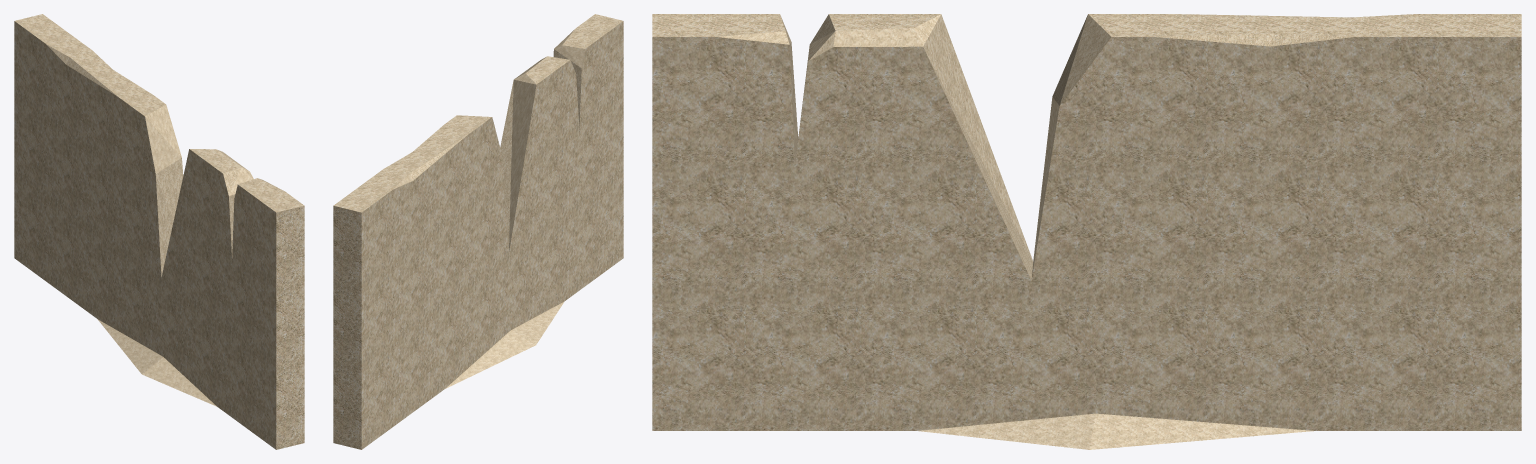
File: thm_tato_imprv_wall_cleft_s01_l2.fbx
The picture shows the model from 3 angles, left to right: view 1: azimuth 30°, elevation 25°; view 2: azimuth 150°, elevation 25°; view 3: azimuth 270°, elevation 25°; orthographic projection. The views are drawn at different scales.
Visible parts, largest first — view 1: mesh_node; view 2: mesh_node; view 3: mesh_node.
Boxes of the visible parts, x1,y1,x2,y2 form: mesh_node: [14, 14, 304, 449]; mesh_node: [333, 14, 623, 449]; mesh_node: [652, 14, 1521, 449].
Size of the model in its own units: 1.33 by 4.01 by 8.
